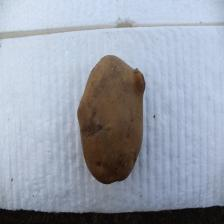Diseased-fungal potato: (76, 54, 146, 185)
